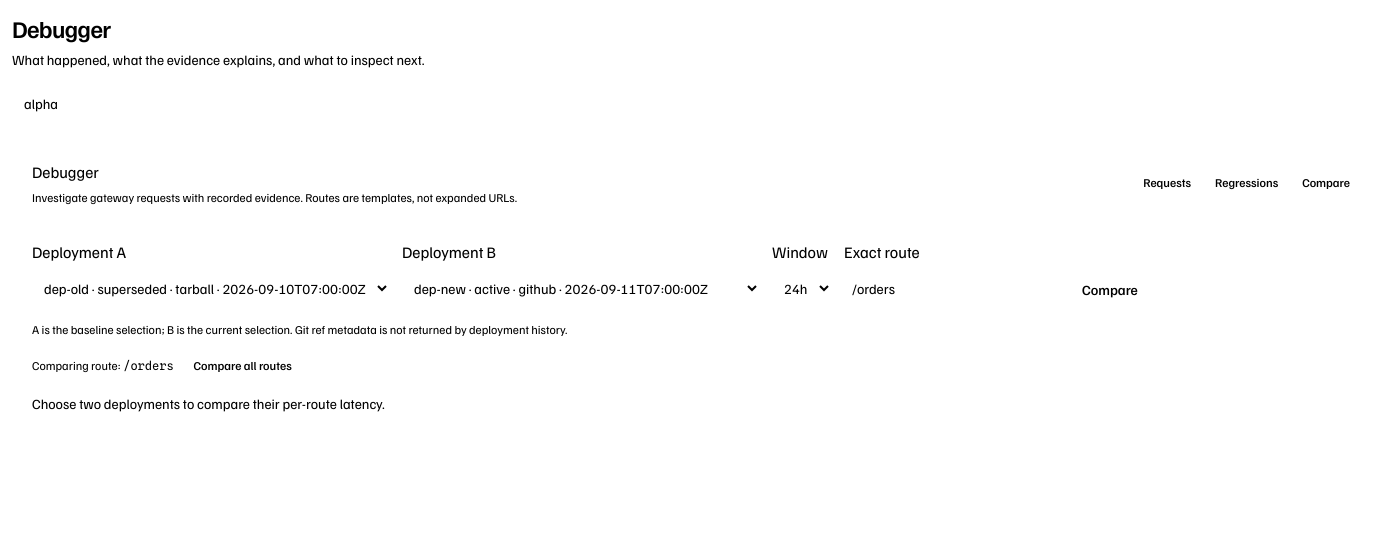
Debugger investigation navigation › keeps keyboard focus while editing the exact route and hides the previous route result
Click the button "Compare" below "Window" at (1110, 290), box [1070,274,1150,306]
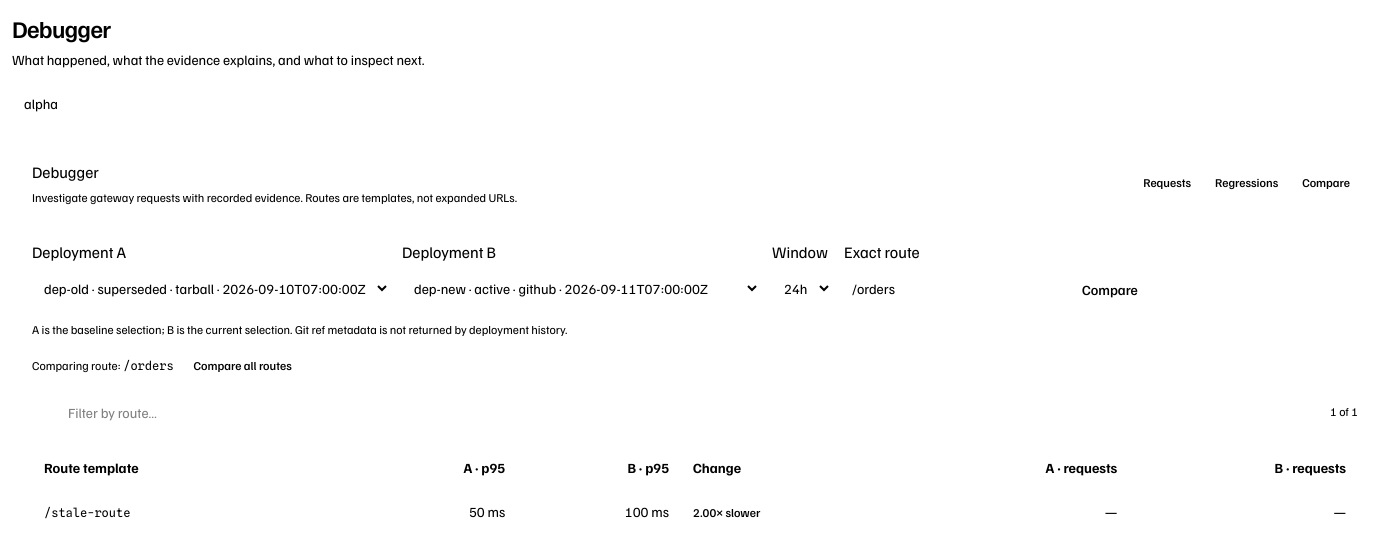
expect the text "/stale-route" is shown: met, box [44,505,130,520]
Type keys "{End}/new"
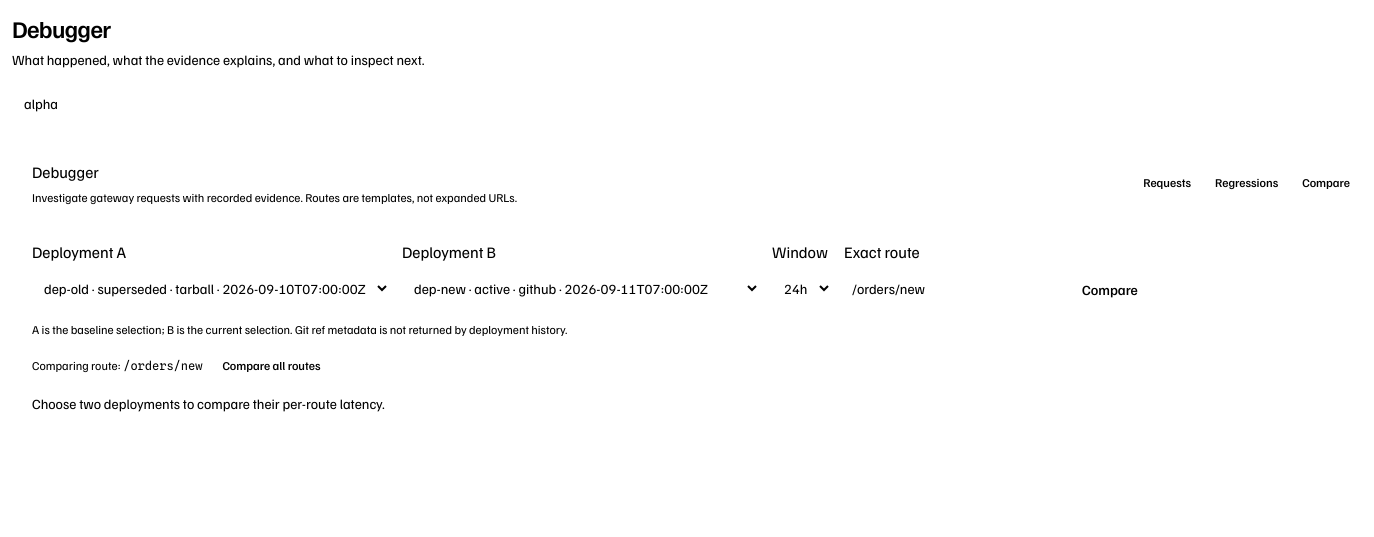
expect the text "/orders/new" is shown: met, box [123,358,202,373]
expect the text "/stale-route" is gone: met
